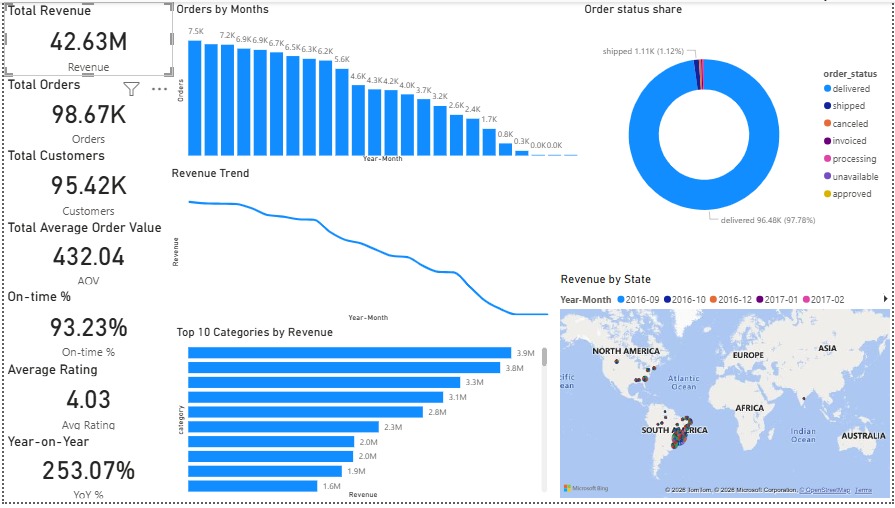

The dashboard page shown, as its layout file describes it:
{"tool":"powerbi","page":{"name":"Overview (Executive Dashboard)","canvas":[1280,720],"ordinal":0},"visuals":[{"type":"card","title":"Total Revenue","fields":{"Values":["public bi_fact_sales.Revenue"]},"box":[0,0,280,106.2],"z":0},{"type":"card","title":"Total Orders","fields":{"Values":["public bi_fact_sales.Orders"]},"box":[0,106.2,280,102.5],"z":1000},{"type":"card","title":"Total Customers","fields":{"Values":["public bi_fact_sales.Customers"]},"box":[0,208.8,280,103.8],"z":2000},{"type":"card","title":"Total Average Order Value","fields":{"Values":["public bi_fact_sales.AOV"]},"box":[0,312.5,280,100],"z":3000},{"type":"card","title":"On-time %","fields":{"Values":["public bi_fact_sales.On-time %"]},"box":[0,412.5,280,105],"z":4000},{"type":"card","title":"Average Rating","fields":{"Values":["public bi_fact_sales.Avg Rating"]},"box":[0,516.2,280,105],"z":5000},{"type":"card","title":"Year-on-Year","fields":{"Values":["DimDate.YoY %"]},"box":[0,621.2,280,98.8],"z":6000},{"type":"lineChart","title":"Revenue Trend","fields":{"Category":["DimDate.Year-Month"],"Y":["public bi_fact_sales.Revenue"]},"box":[227.5,236.2,560,228.8],"z":7000},{"type":"actionButton","box":[0,0,100,40],"z":8000},{"type":"clusteredColumnChart","title":"Orders by Months","fields":{"Category":["DimDate.Year-Month"],"Y":["public bi_fact_sales.Orders"]},"box":[227.5,0,560,236.2],"z":9000},{"type":"barChart","title":"Top 10 Categories by Revenue","fields":{"Category":["public bi_fact_sales.category"],"Y":["public bi_fact_sales.Revenue"]},"box":[243.8,465,543.8,255],"z":10000},{"type":"map","title":"Revenue by State","fields":{"Series":["DimDate.Year-Month"],"Size":["public bi_fact_sales.Revenue"],"Category":["public bi_fact_sales.customer_state"]},"box":[796.2,388.8,483.8,331.2],"z":11000},{"type":"donutChart","title":"Order status share","fields":{"Category":["public bi_fact_sales.order_status"],"Y":["public bi_fact_sales.Orders"]},"box":[831.2,0,448.8,362.5],"z":12000}]}

Visuals, with their boxes in screenshot pixels (x1, y1, x2, y2), scaled from the page's 1280x720 canvas onto the 895x508 screenshot:
"Total Revenue" card: (0,0,196,75)
"Total Orders" card: (0,75,196,147)
"Total Customers" card: (0,147,196,221)
"Total Average Order Value" card: (0,220,196,291)
"On-time %" card: (0,291,196,365)
"Average Rating" card: (0,364,196,438)
"Year-on-Year" card: (0,438,196,507)
"Revenue Trend" lineChart: (159,167,551,328)
actionButton: (0,0,70,28)
"Orders by Months" clusteredColumnChart: (159,0,551,167)
"Top 10 Categories by Revenue" barChart: (170,328,551,507)
"Revenue by State" map: (557,274,894,507)
"Order status share" donutChart: (581,0,894,256)
